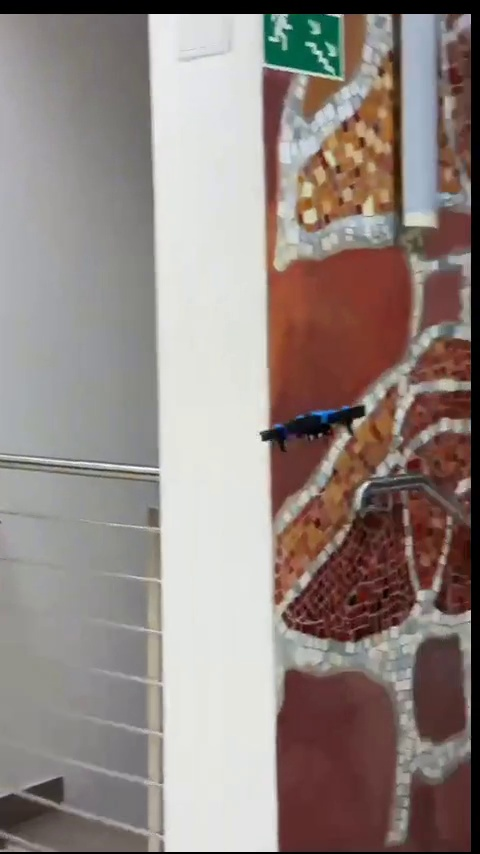drone: (262, 408, 370, 449)
